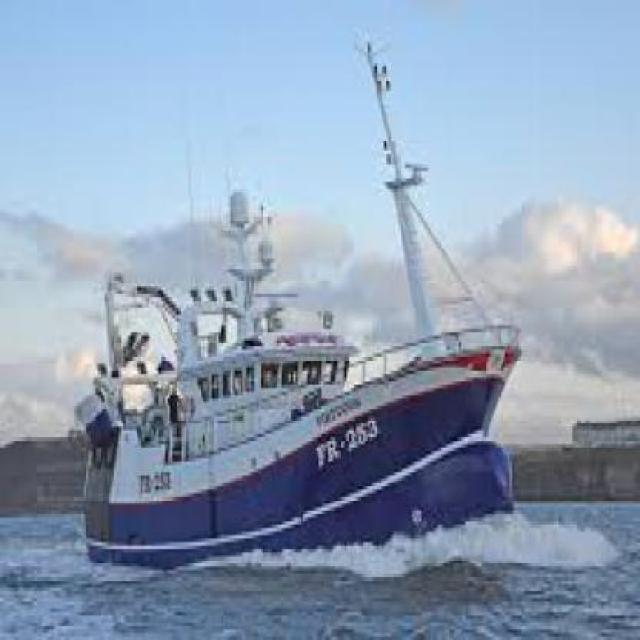fish-b: (70, 22, 550, 589)
